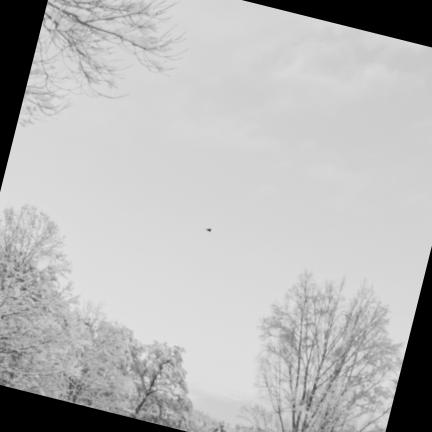Shahed: (205, 228, 210, 231)
